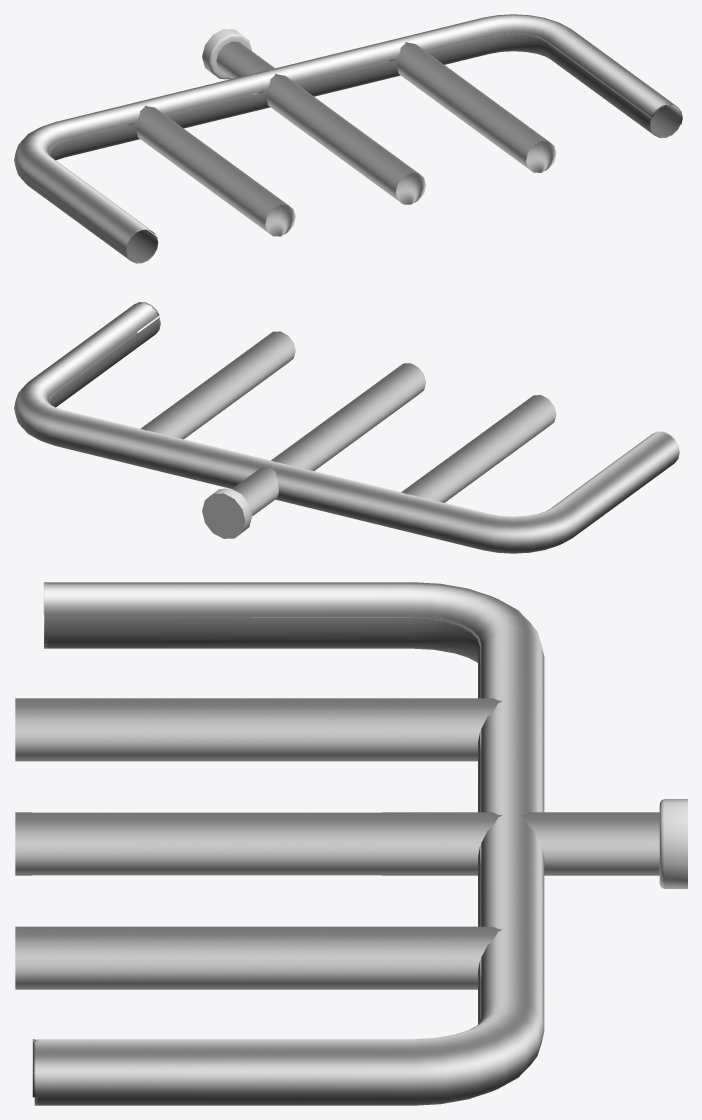
3 renders of one model, top to bottom at view 1: azimuth 30°, elevation 25°; view 2: azimuth 150°, elevation 25°; view 3: azimuth 270°, elevation 25°, orthographic. The views are drawn at different scales.
Parts seen in each view (by area): view 1: machine_1.002; view 2: machine_1.002; view 3: machine_1.002.
Part boxes in pixels (x1,y1,x2,y2): machine_1.002: [14, 14, 682, 263]; machine_1.002: [14, 302, 679, 553]; machine_1.002: [15, 582, 687, 1105].
Bounding box in the file's own units: 829 × 65.05 × 486.
Materials: 2 (1 with a texture image).
